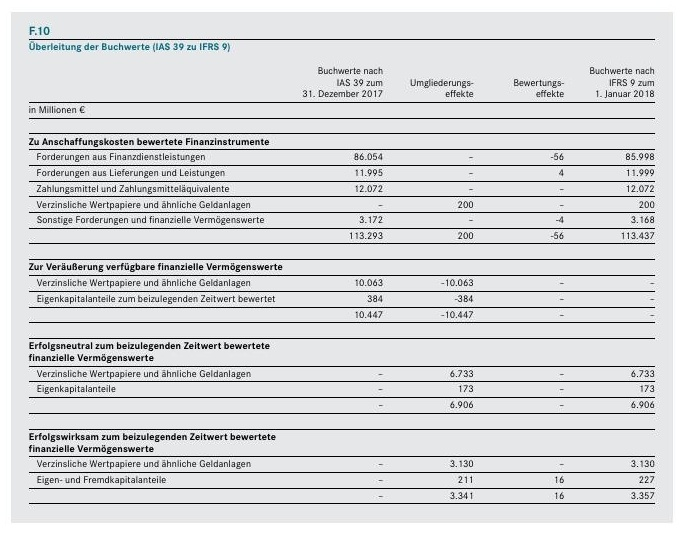table: (0, 0, 682, 535)
